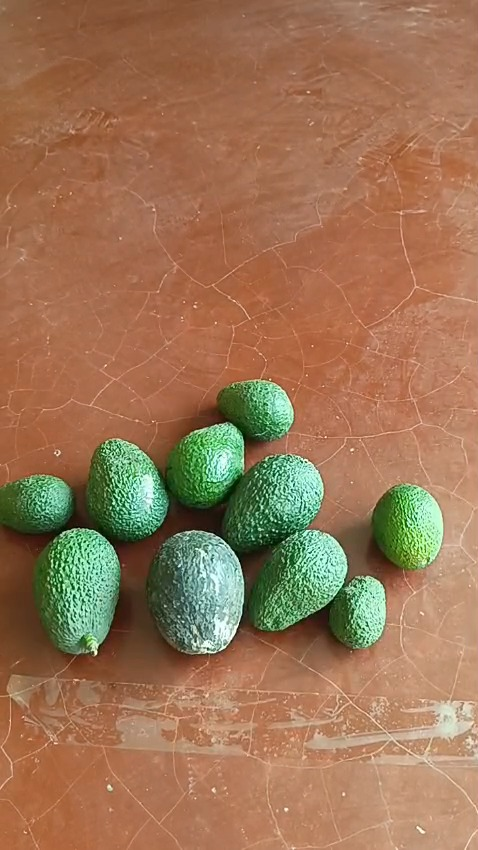Primera: (146, 530, 248, 656), (32, 528, 122, 656), (222, 455, 325, 555), (249, 530, 348, 632), (83, 440, 169, 544)
Segunda: (166, 424, 248, 510), (369, 484, 443, 570), (217, 378, 294, 440)
Tercera: (327, 574, 387, 648), (0, 476, 74, 535)
